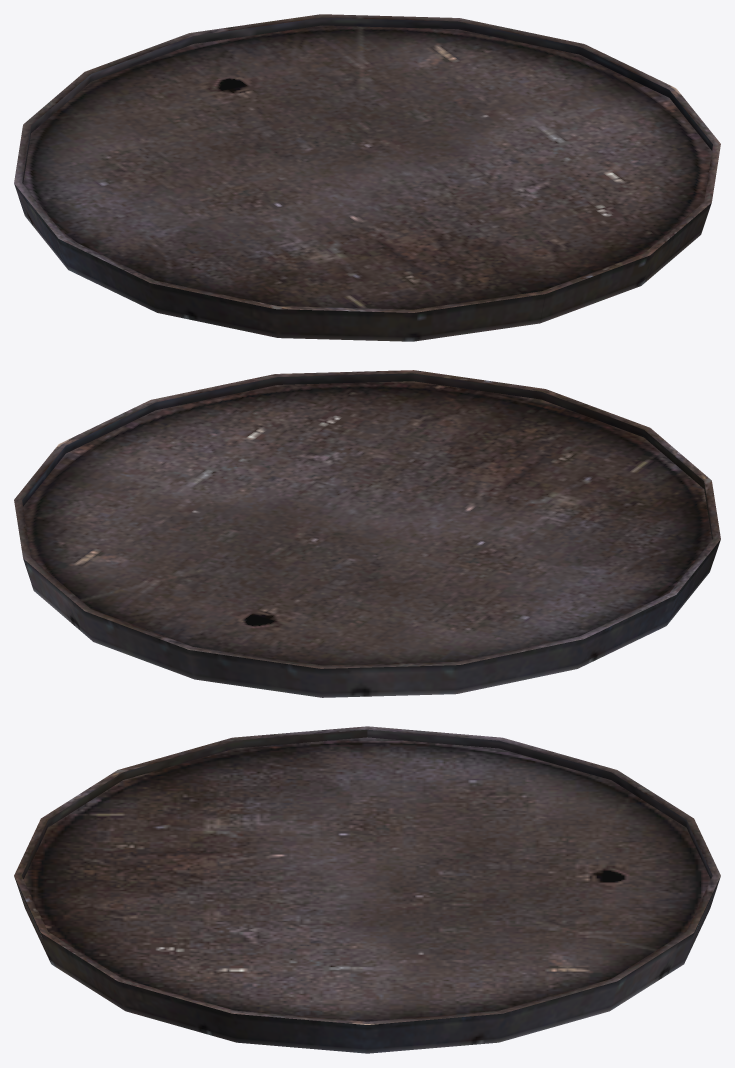
The model's file is flower_barrel_dead_p10.glb.
3 renders of one model, top to bottom at view 1: azimuth 30°, elevation 25°; view 2: azimuth 150°, elevation 25°; view 3: azimuth 270°, elevation 25°, orthographic.
Visible parts, largest first — view 1: flower_barrel_dead_p10; view 2: flower_barrel_dead_p10; view 3: flower_barrel_dead_p10.
Boxes of the visible parts, x1,y1,x2,y2 form: flower_barrel_dead_p10: [14, 14, 720, 341]; flower_barrel_dead_p10: [14, 370, 720, 697]; flower_barrel_dead_p10: [14, 726, 720, 1053].
Size of the model in its own units: 0.5968 by 0.031 by 0.5968.
Materials: 1 (1 with a texture image).
